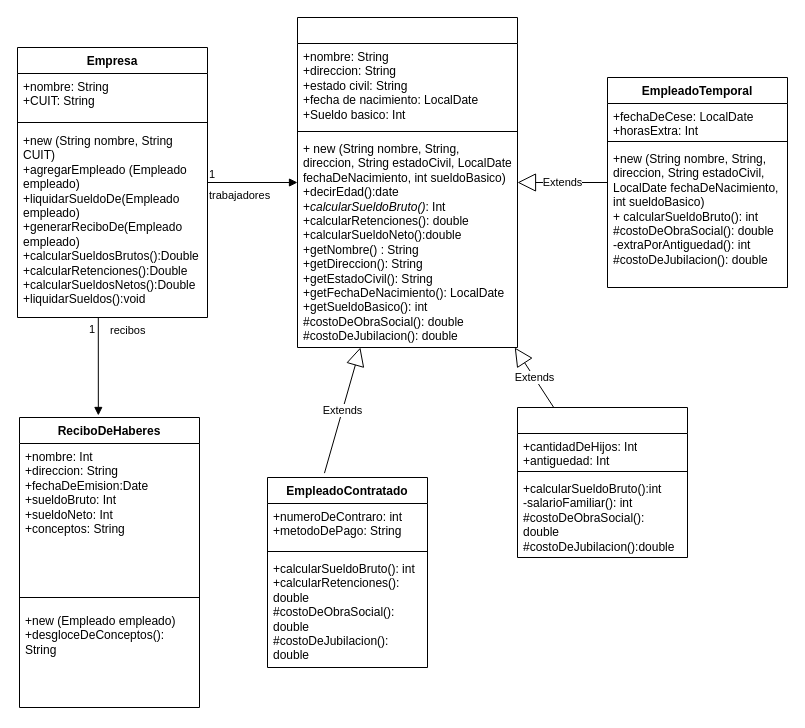
Image size: 805x728. Some labels were removed from this diagram. The shapes that lost their labels are listed below. From the top down, each one's box as (x1, y1, x2, y2) in pixels, then its label:
(296, 16, 518, 348): Empleado
(516, 406, 688, 558): EmpleadoPermanente
